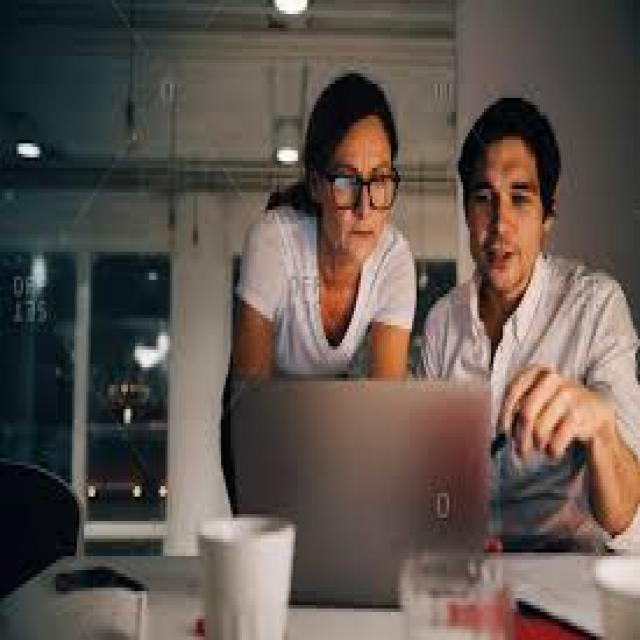No_Goggles: (470, 172, 540, 217)
No_Helmet: (463, 85, 562, 168), (302, 72, 405, 148), (315, 158, 405, 215)
